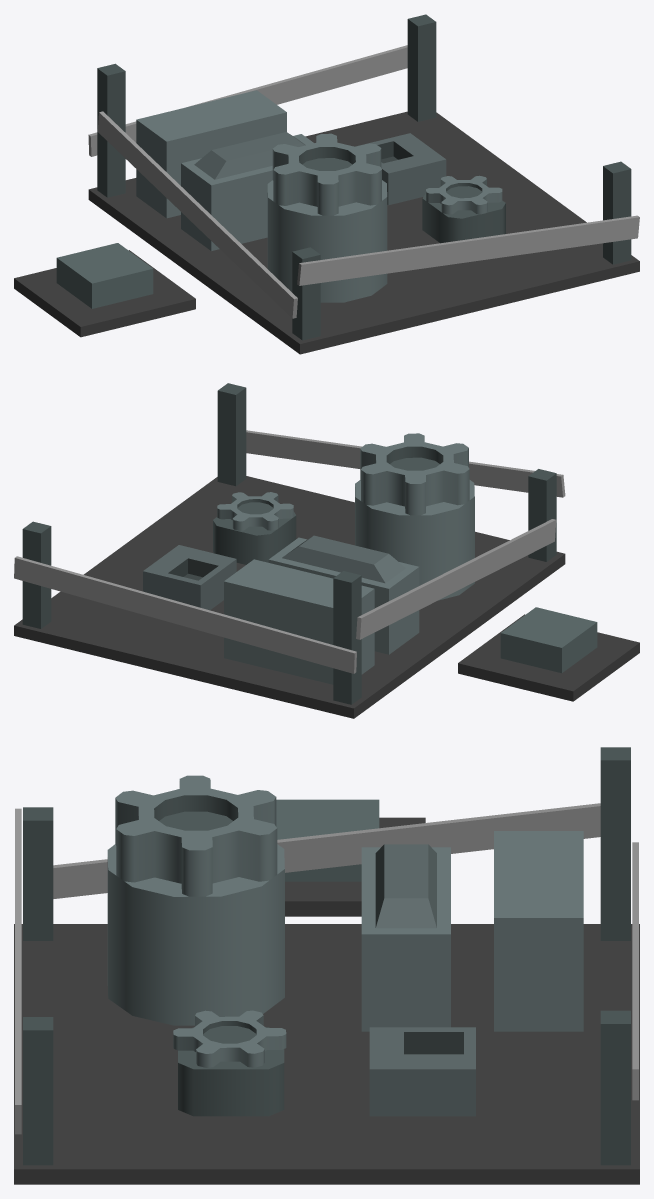
File: mechBase.fbx
3 views of the same model, one above another, from view 1: azimuth 30°, elevation 25°; view 2: azimuth 150°, elevation 25°; view 3: azimuth 270°, elevation 25° (orthographic). The views are drawn at different scales.
Parts seen in each view (by area): view 1: mechBase; view 2: mechBase; view 3: mechBase.
Boxes of the visible parts, <box> form: mechBase: <box>14,14,639,354</box>; mechBase: <box>14,383,639,718</box>; mechBase: <box>14,747,639,1184</box>.
Size of the model in its own units: 309 by 80.39 by 233.
